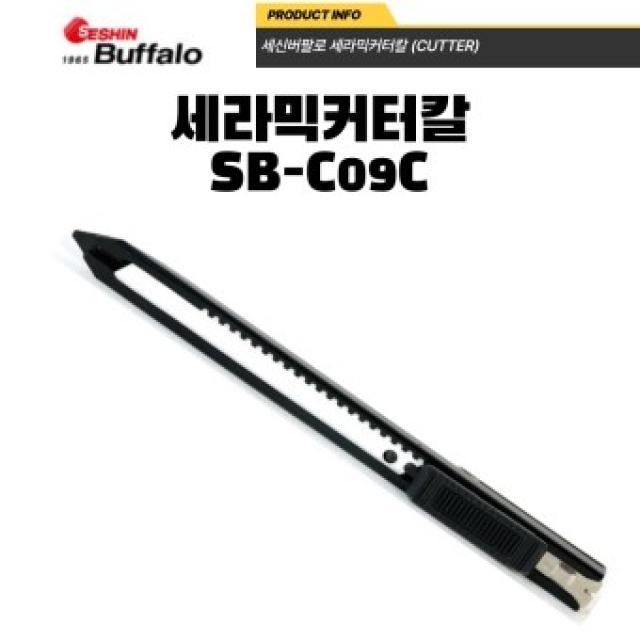cutter: (62, 223, 617, 629)
